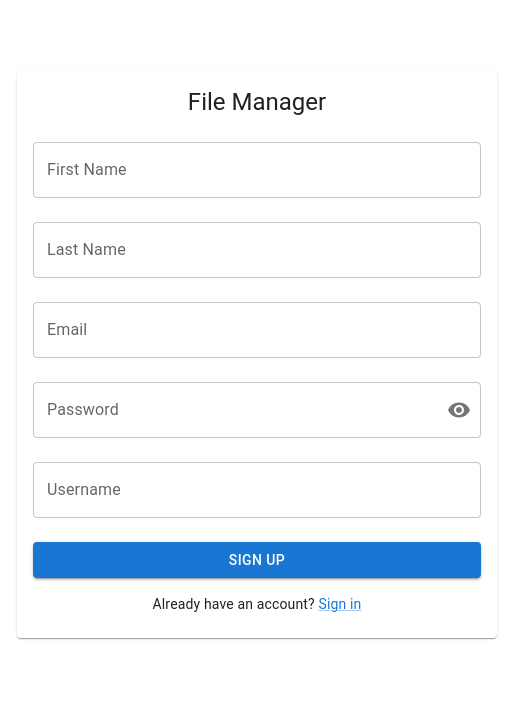
Scenario: shows validation errors when submitting empty form
This screenshot has width=515, height=715.
Click the button "Sign Up" at x=257, y=560, box [33, 542, 481, 578]
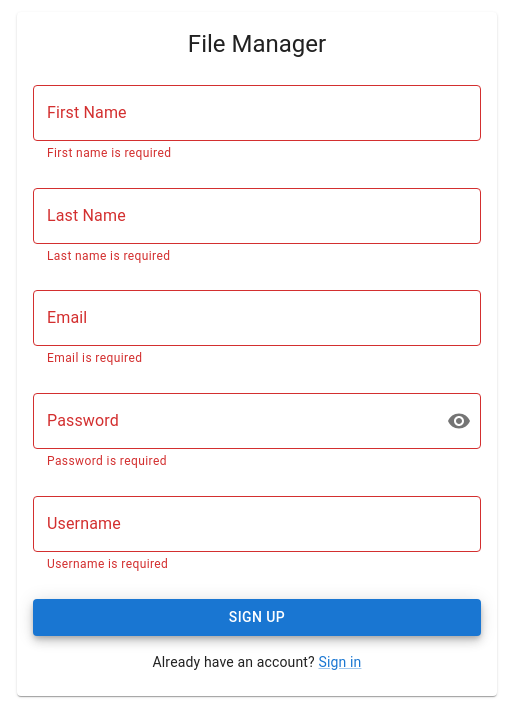
Expected: the text "First name is required" is shown, [47, 146, 171, 160]
Expected: the text "Last name is required" is shown, [47, 249, 170, 263]
Expected: the text "Email is required" is shown, [47, 352, 142, 366]
